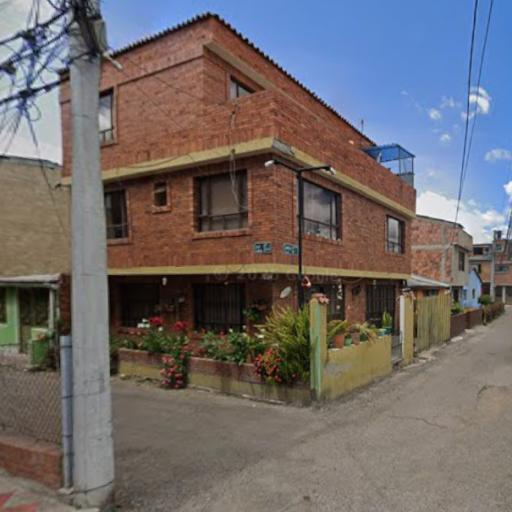poste: (58, 5, 121, 503), (486, 232, 500, 309)
